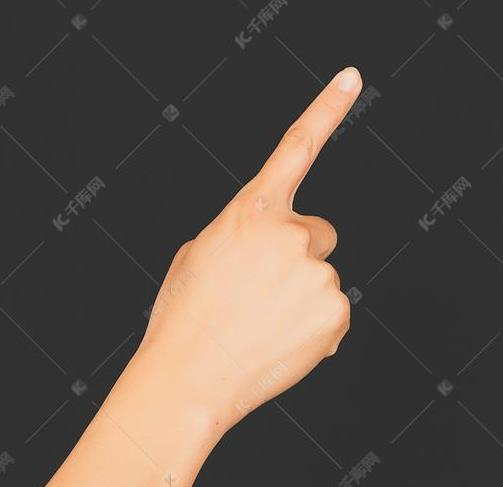up: (130, 65, 373, 401)
